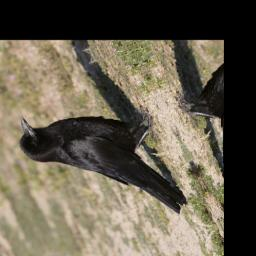Crow: (6, 74, 199, 255)
